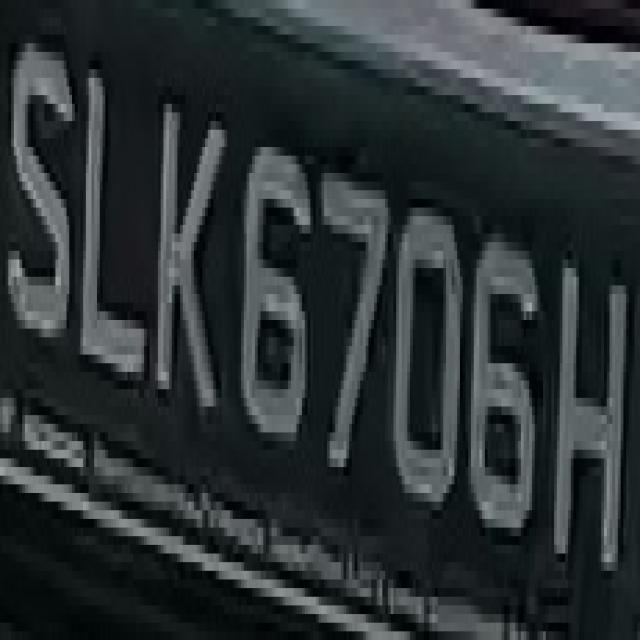0: (391, 165, 468, 528)
6: (230, 112, 313, 493), (462, 190, 546, 536)
7: (316, 147, 390, 502)
H: (540, 251, 632, 597)
K: (152, 43, 228, 441)
L: (80, 44, 150, 432)
S: (8, 34, 80, 372)
